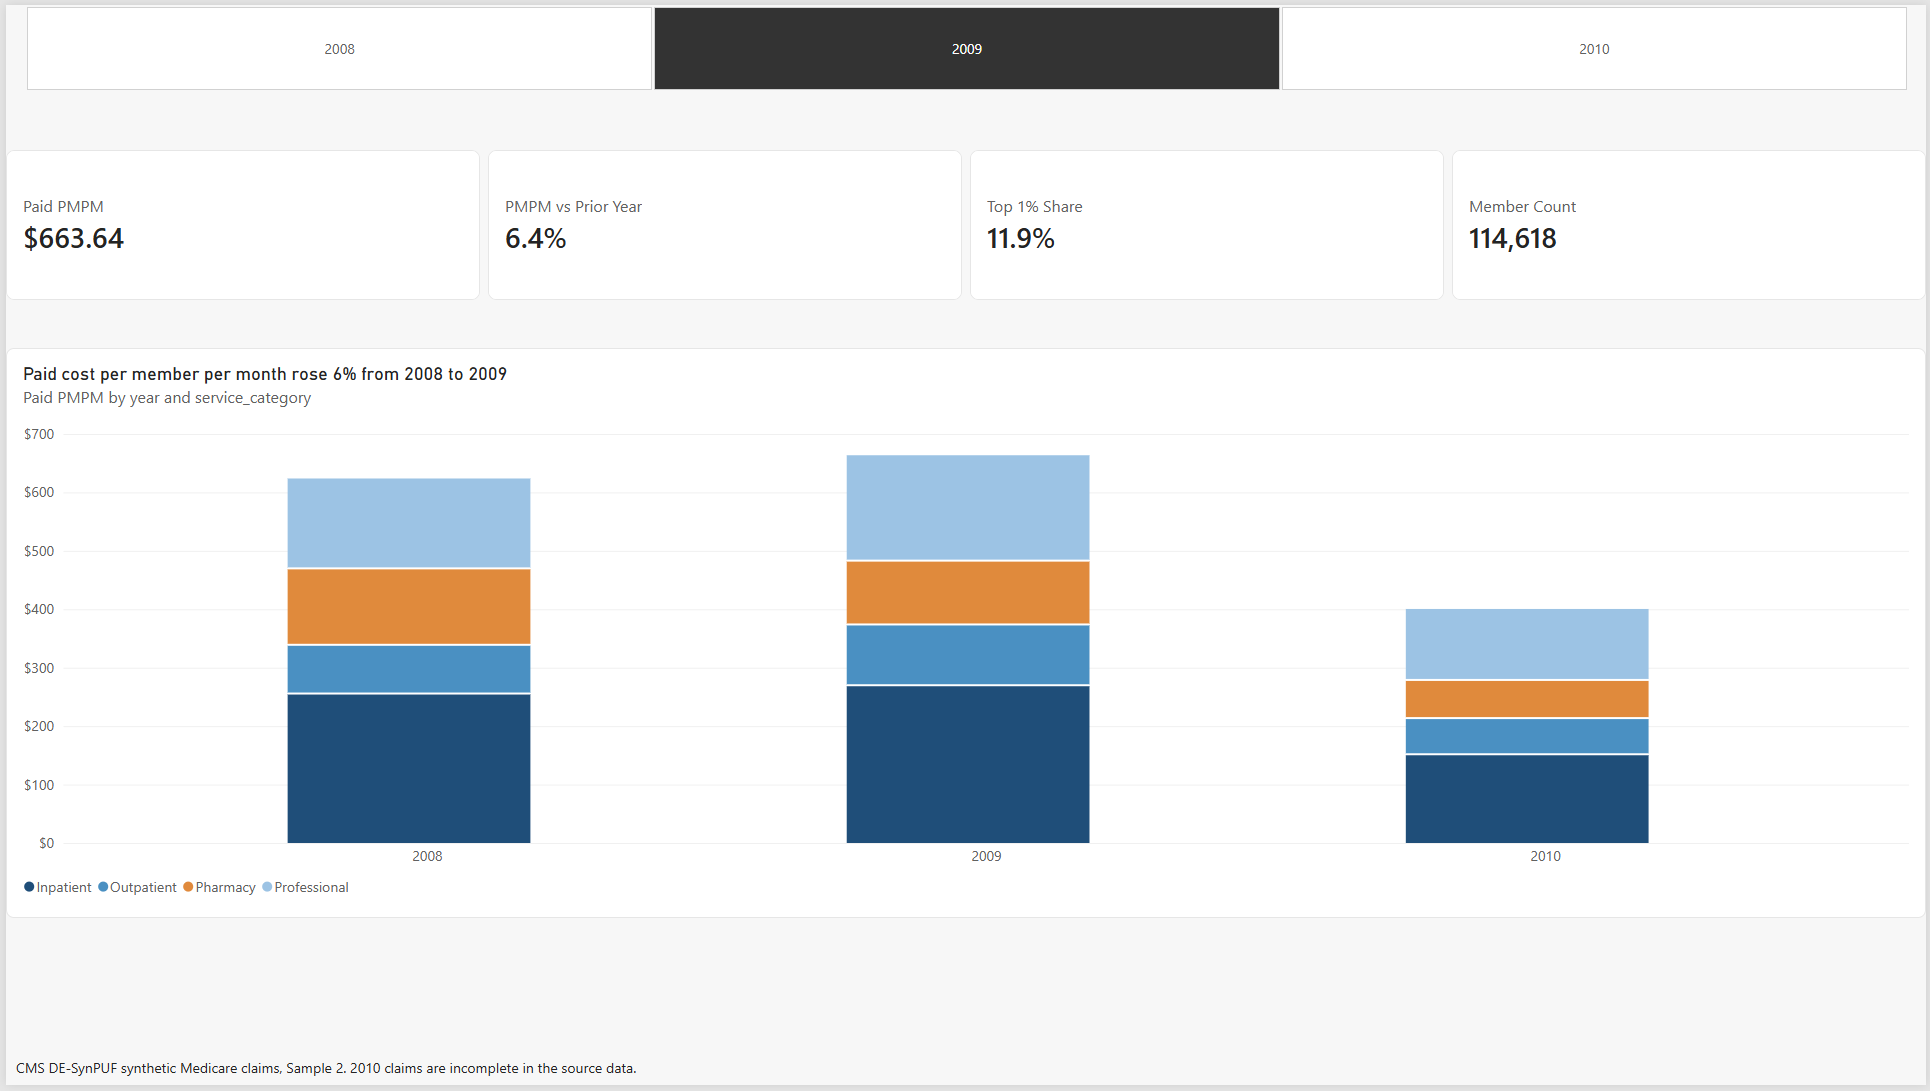

The page's visual inventory and layout, read from the dashboard file:
{"tool":"powerbi","page":{"name":"Overview","canvas":[1920,1080],"ordinal":0},"visuals":[{"type":"slicer","fields":{"Values":["Year.year"]},"box":[0,0,1920,86.7],"z":0},{"type":"cardVisual","fields":{"Data":["category_year.Paid PMPM","category_year.PMPM vs Prior Year","hcc_summary.Top 1% Share","hcc_summary.Member Count"]},"box":[0,145,1920,150],"z":1000},{"type":"columnChart","title":"Paid cost per member per month rose 6% from 2008 to 2009","fields":{"Category":["Year.year"],"Series":["category_year.service_category"],"Y":["category_year.Paid PMPM"]},"box":[0,343.3,1920,570],"z":2000},{"type":"textbox","box":[10,1053.3,1048.3,26.7],"z":3000}]}

Visuals, with their boxes in screenshot pixels (x1, y1, x2, y2), scaled from the page's 1920x1080 canvas onto the 1930x1091 screenshot:
slicer - Year.year: [0, 0, 1929, 88]
cardVisual - category_year.Paid PMPM x category_year.PMPM vs Prior Year: [0, 146, 1929, 298]
"Paid cost per member per month rose 6% from 2008 to 2009" columnChart: [0, 347, 1929, 923]
textbox: [10, 1064, 1064, 1090]
